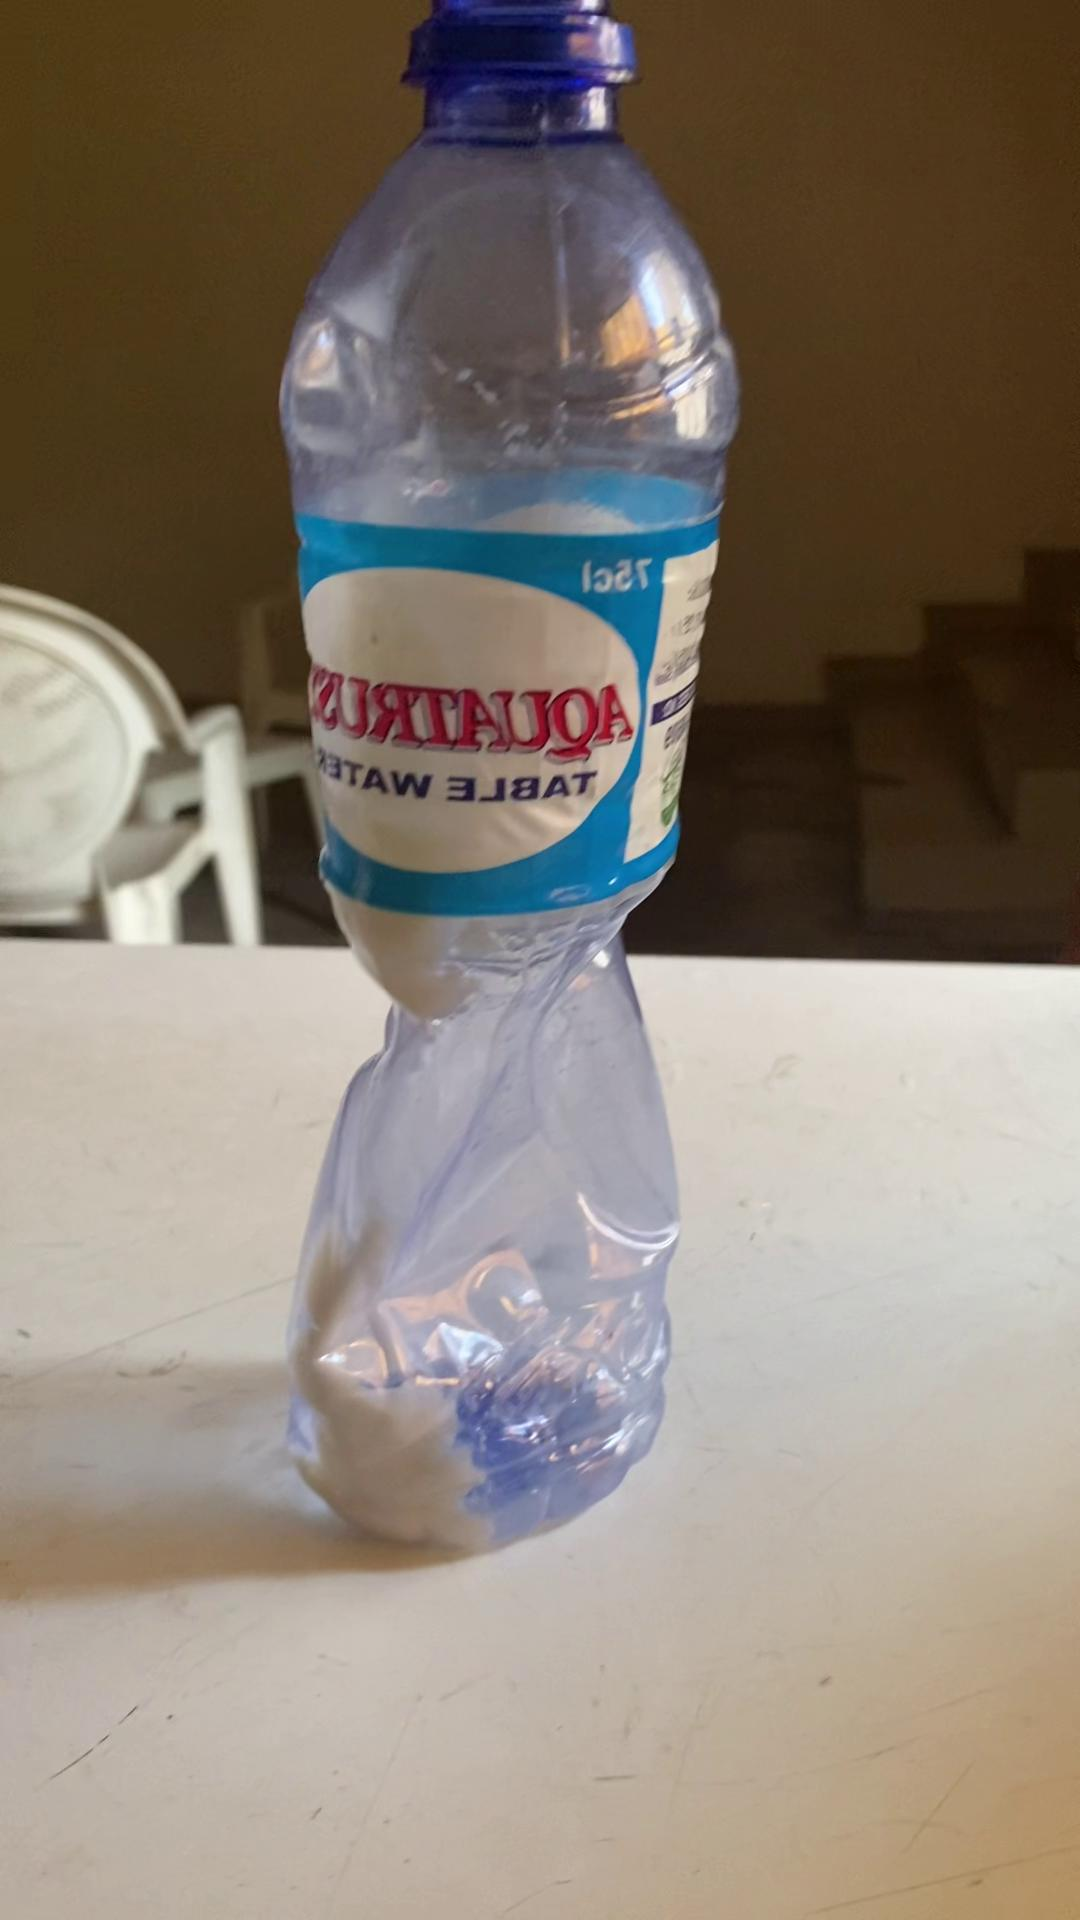crumbled: (262, 0, 742, 1560)
label: (303, 521, 720, 907)
no-cap: (400, 0, 629, 84)
